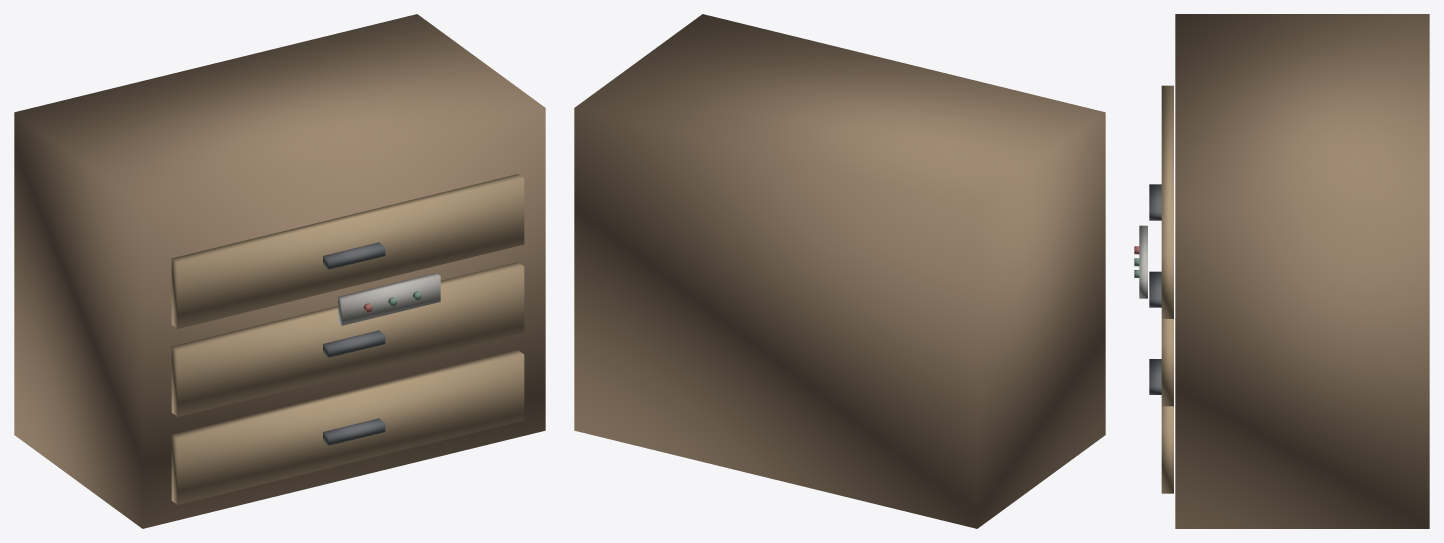
File: residential_dresser__deep.glb
3 renders of one model, left to right at view 1: azimuth 30°, elevation 25°; view 2: azimuth 150°, elevation 25°; view 3: azimuth 270°, elevation 25°, orthographic.
Parts seen in each view (by area): view 1: world; view 2: world; view 3: world.
Boxes of the visible parts, left/top/right/bottom form: world: left=14, top=14, right=545, bottom=528; world: left=574, top=14, right=1105, bottom=528; world: left=1134, top=14, right=1429, bottom=528.
Size of the model in its own units: 1.15 by 0.88 by 0.7363.
